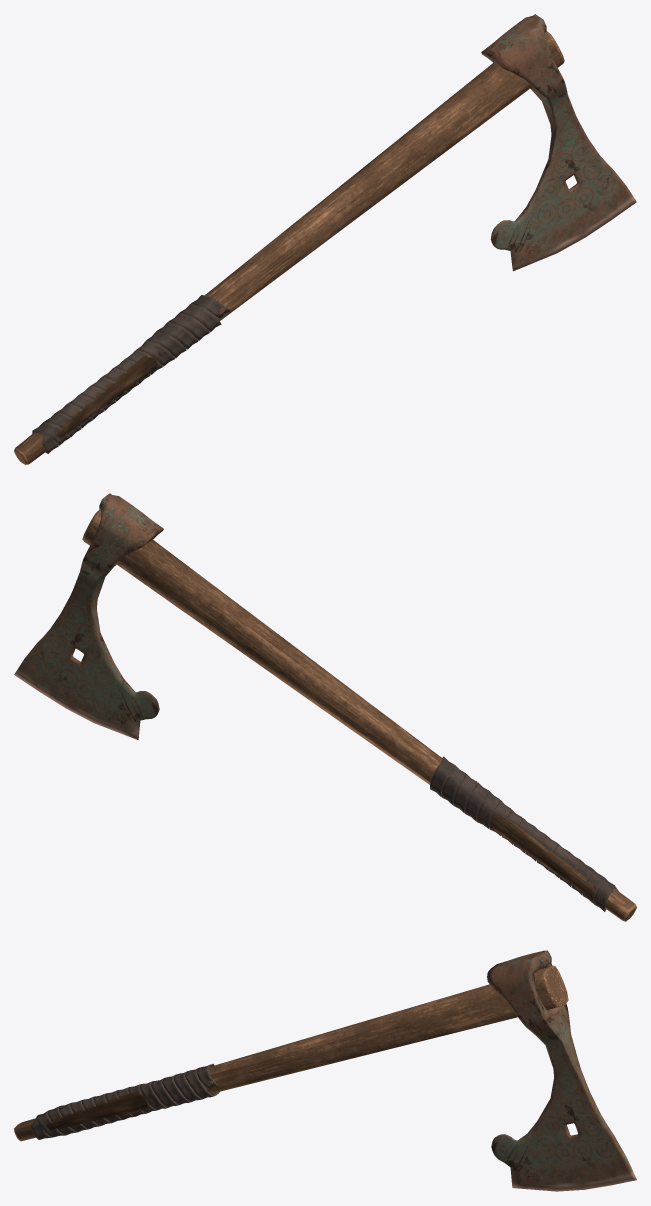
The model's file is viking_axe.glb.
The picture shows the model from 3 angles, top to bottom: view 1: azimuth 30°, elevation 25°; view 2: azimuth 150°, elevation 25°; view 3: azimuth 330°, elevation 25°; orthographic projection. The views are drawn at different scales.
Parts seen in each view (by area): view 1: handle.002; view 2: handle.002; view 3: handle.002.
Part boxes in pixels (x1,y1,x2,y2): handle.002: (14, 14, 636, 464); handle.002: (14, 493, 636, 921); handle.002: (14, 950, 636, 1191).
Size of the model in its own units: 0.5486 by 0.2612 by 0.0393.
1 material, 1 textured.
